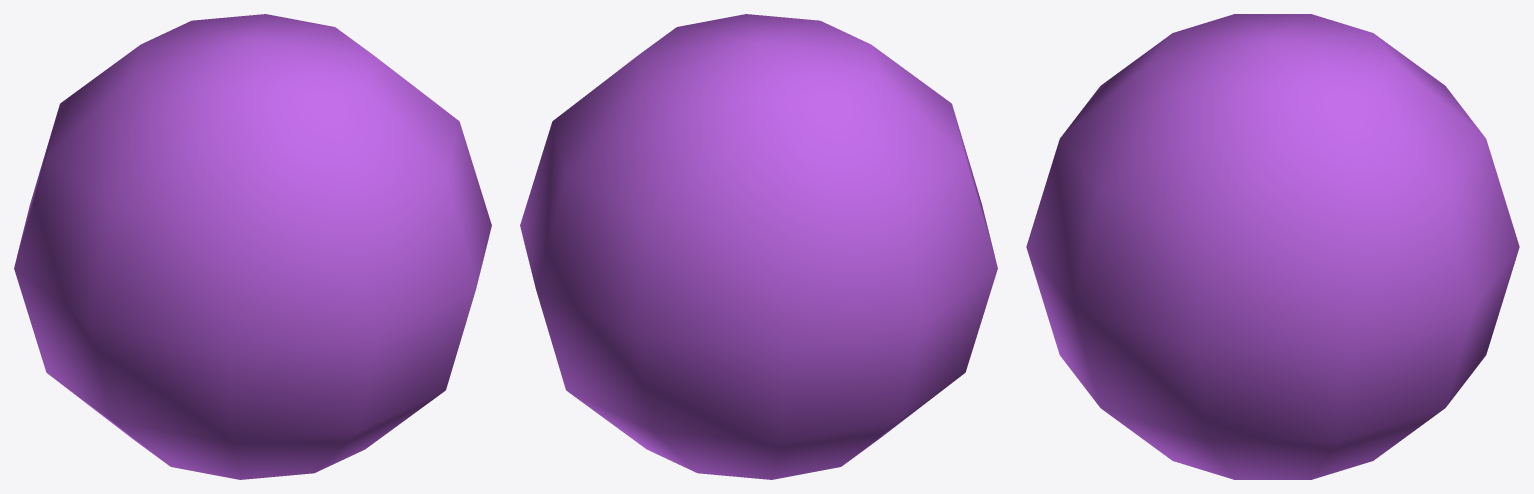
Rendered from lana03.fbx.
3 renders of one model, left to right at view 1: azimuth 30°, elevation 25°; view 2: azimuth 150°, elevation 25°; view 3: azimuth 270°, elevation 25°, orthographic.
Parts seen in each view (by area): view 1: bolaDeGato02; view 2: bolaDeGato02; view 3: bolaDeGato02.
Part boxes in pixels (bbox=[...]): bolaDeGato02: bbox=[14, 14, 491, 479]; bolaDeGato02: bbox=[520, 14, 997, 479]; bolaDeGato02: bbox=[1026, 14, 1519, 479].
Size of the model in its own units: 0.1053 by 0.1017 by 0.1107.
